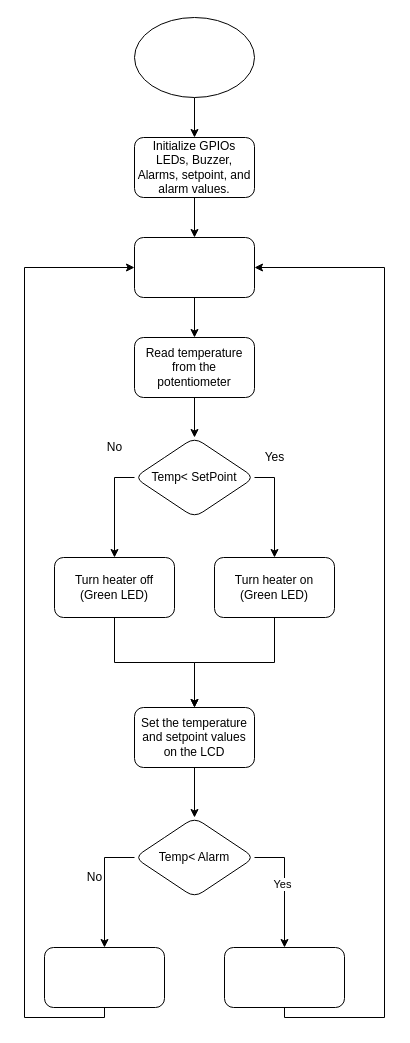
Image size: 410x1043. Some labels were removed from this diagram. The centre of each missing label's shape, as x and y in pixels:
Fetch the updated setpoint from the UART0 Queue: point (194, 267)
Send 0 to the Buzzer (Turn off Red LED): point (104, 977)
Send 1 to the Buzzer (Turn on Red LED): point (284, 977)
Task1: point (194, 57)
